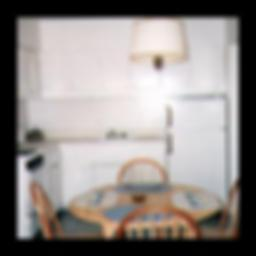Electrodomestico: (165, 102, 227, 203), (21, 152, 43, 234)
Lavaplatos: (96, 130, 140, 145)
